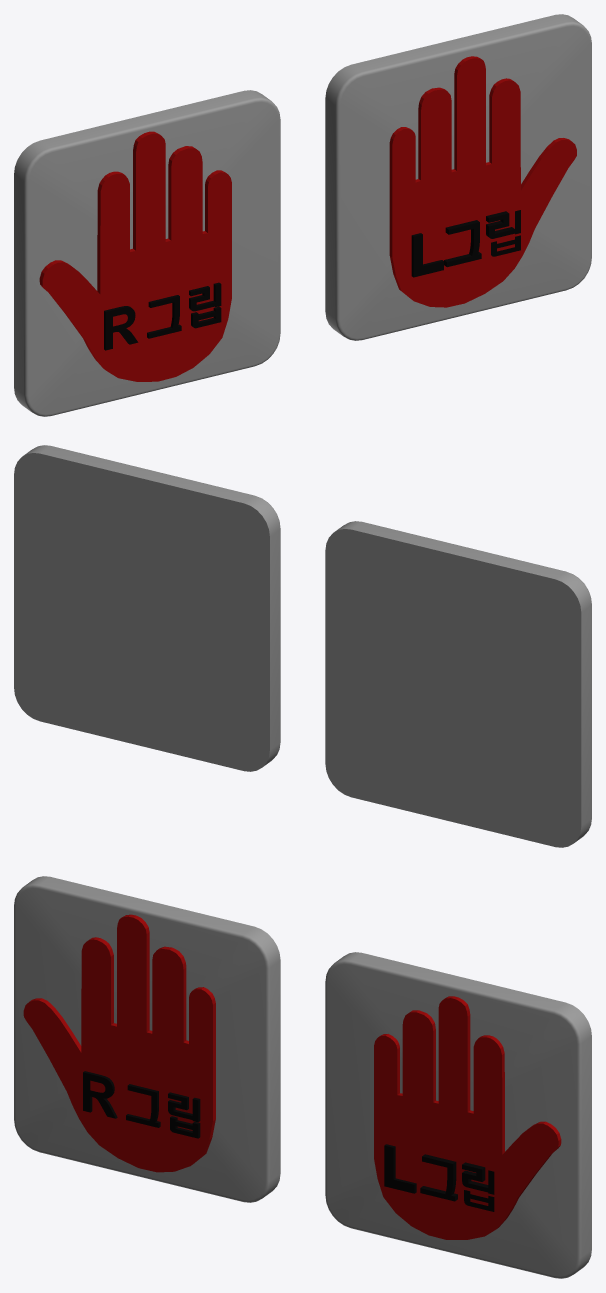
The model's file is HAND_ICON.FBX.
The picture shows the model from 3 angles, top to bottom: view 1: azimuth 30°, elevation 25°; view 2: azimuth 150°, elevation 25°; view 3: azimuth 330°, elevation 25°; orthographic projection.
Visible parts, largest first — view 1: HL, HR; view 2: HR, HL; view 3: HR, HL.
Boxes of the visible parts, <box> form: HL: <box>325,14,591,340</box>; HR: <box>14,90,280,416</box>; HR: <box>325,521,591,847</box>; HL: <box>14,445,280,771</box>; HR: <box>14,876,280,1202</box>; HL: <box>325,952,591,1278</box>.
Bounding box in the file's own units: 167 × 75.34 × 10.15.
